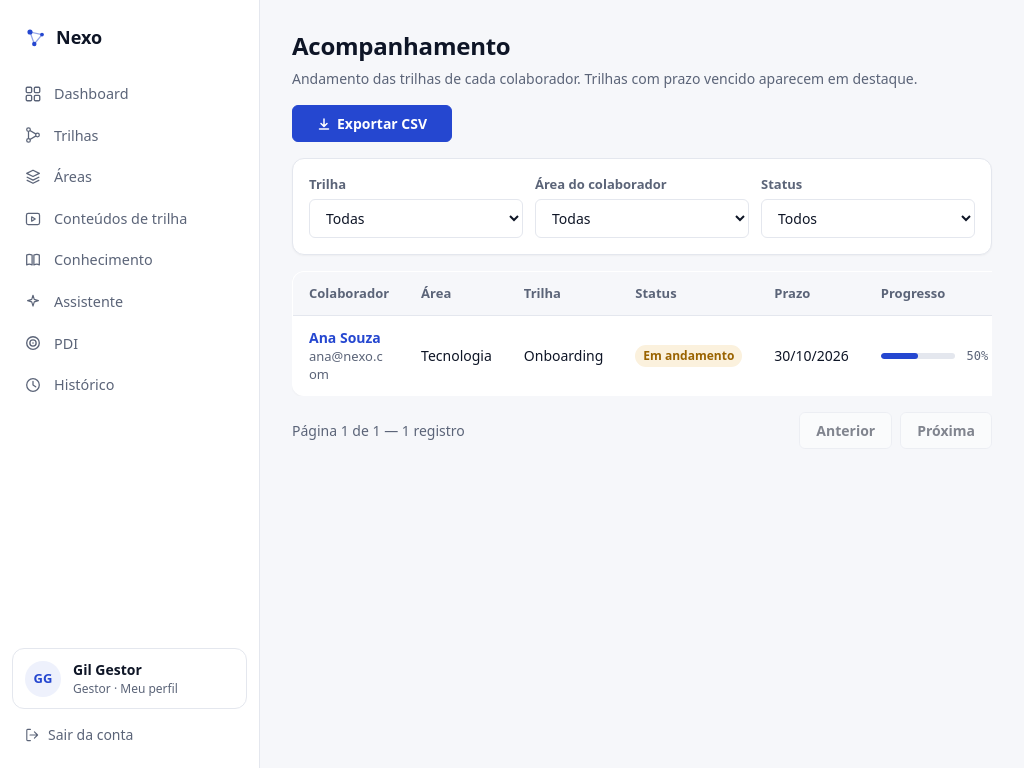
AcompanhamentoPage › exporta o CSV respeitando os filtros aplicados
The width and height of the screenshot is (1024, 768).
Select "Atrasada" in the dropdown labelled "Status" at [868, 218], box [761,198,975,238]
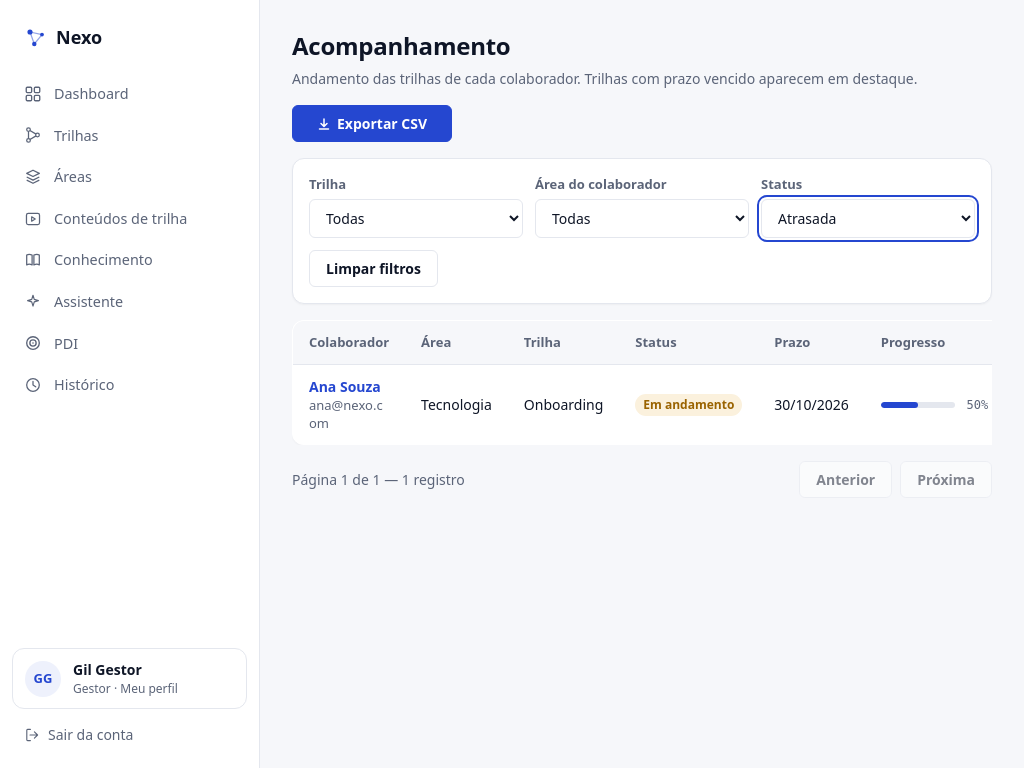
Click the button "Exportar CSV".
click(372, 124)  # box [292,105,452,142]
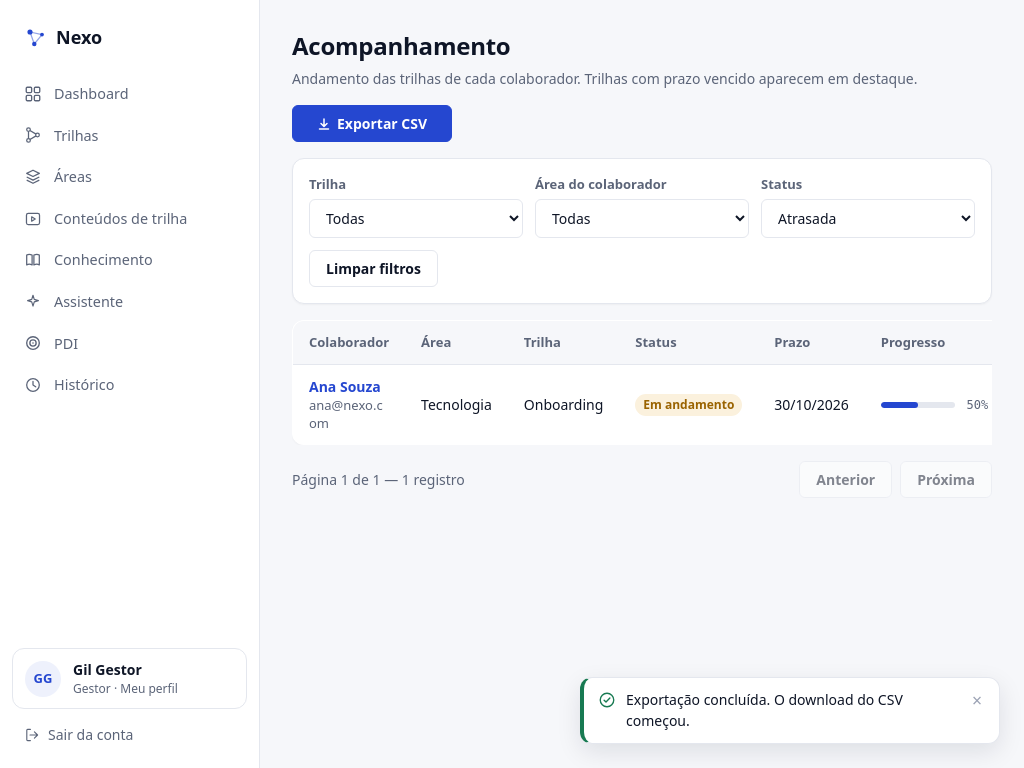
expect the text "Exportação concluída. O download do CSV começou." is shown: met, box [626,690,903,730]
